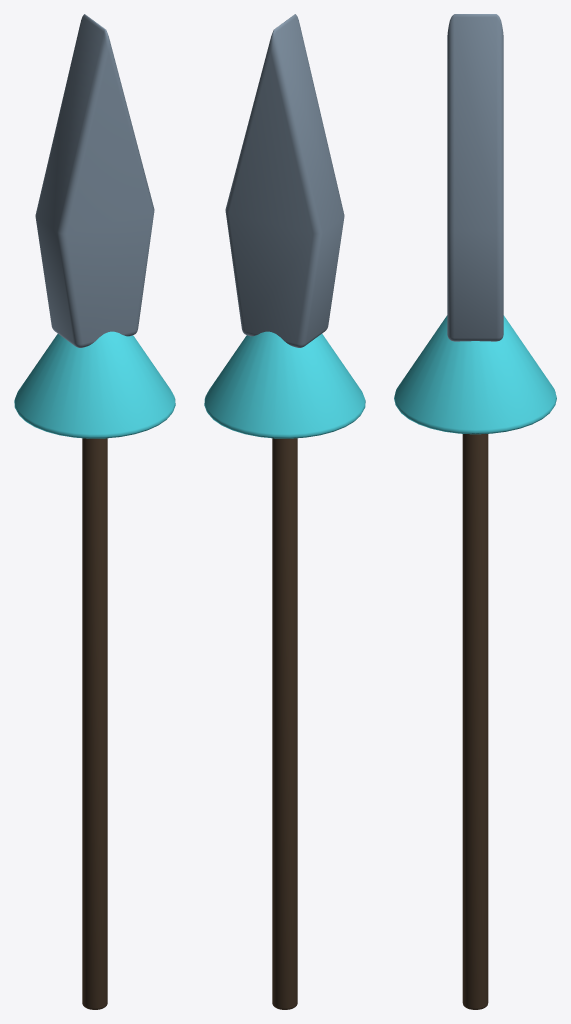
The model's file is spear_v7.glb.
The picture shows the model from 3 angles, left to right: view 1: azimuth 30°, elevation 25°; view 2: azimuth 150°, elevation 25°; view 3: azimuth 270°, elevation 25°; orthographic projection.
Parts seen in each view (by area): view 1: LANCE_SPEARHEAD_PRIMARY, POLE_SECONDARY, LANCE_VAMPLATE_ACCENT; view 2: LANCE_SPEARHEAD_PRIMARY, POLE_SECONDARY, LANCE_VAMPLATE_ACCENT; view 3: LANCE_SPEARHEAD_PRIMARY, POLE_SECONDARY, LANCE_VAMPLATE_ACCENT.
Part boxes in pixels (x1,y1,x2,y2): LANCE_SPEARHEAD_PRIMARY: (35, 14, 154, 347); POLE_SECONDARY: (82, 438, 107, 1009); LANCE_VAMPLATE_ACCENT: (14, 331, 175, 438); LANCE_SPEARHEAD_PRIMARY: (225, 14, 344, 347); POLE_SECONDARY: (272, 438, 297, 1009); LANCE_VAMPLATE_ACCENT: (204, 331, 365, 438); LANCE_SPEARHEAD_PRIMARY: (447, 14, 503, 341); POLE_SECONDARY: (462, 434, 488, 1009); LANCE_VAMPLATE_ACCENT: (394, 315, 556, 434).
Bounding box in the file's own units: 0.8125 × 5.46 × 0.8125.
